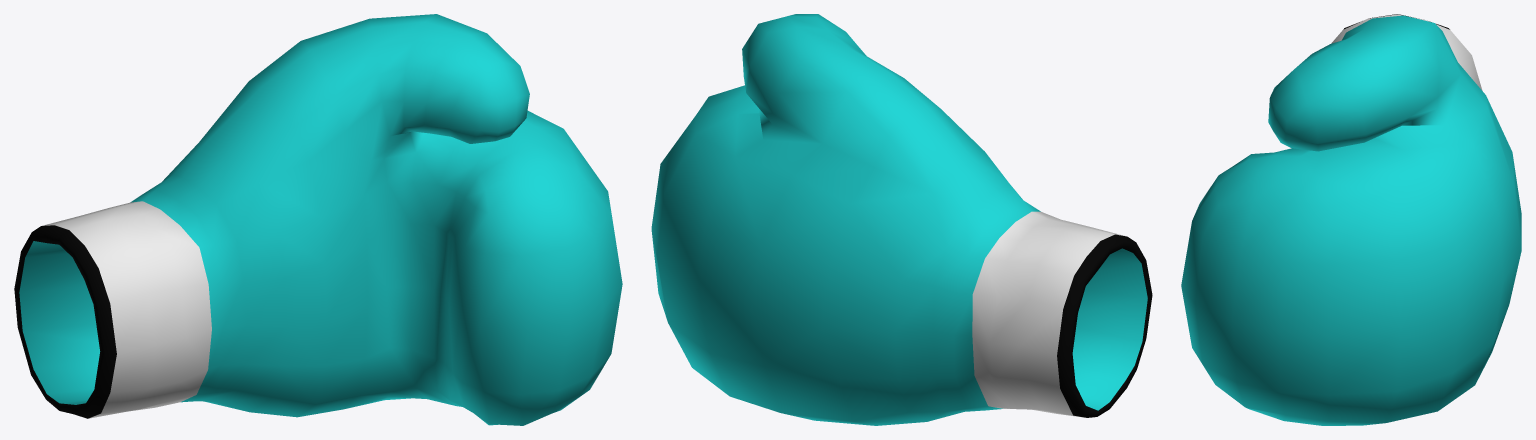
Rendered from LGloves.fbx.
3 renders of one model, left to right at view 1: azimuth 30°, elevation 25°; view 2: azimuth 150°, elevation 25°; view 3: azimuth 270°, elevation 25°, orthographic. The views are drawn at different scales.
Visible parts, largest first — view 1: Mesh_0771.rip_Tex; view 2: Mesh_0771.rip_Tex; view 3: Mesh_0771.rip_Tex.
Boxes of the visible parts, left/top/right/bottom form: Mesh_0771.rip_Tex: left=14, top=14, right=622, bottom=425; Mesh_0771.rip_Tex: left=651, top=14, right=1152, bottom=425; Mesh_0771.rip_Tex: left=1181, top=14, right=1521, bottom=425.
Size of the model in its own units: 34.8 by 25.4 by 21.9.
